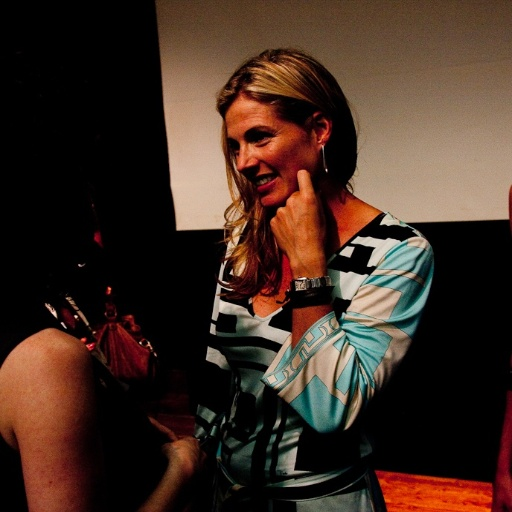hand: (139, 406, 211, 498), (266, 167, 327, 261), (142, 411, 180, 443)
